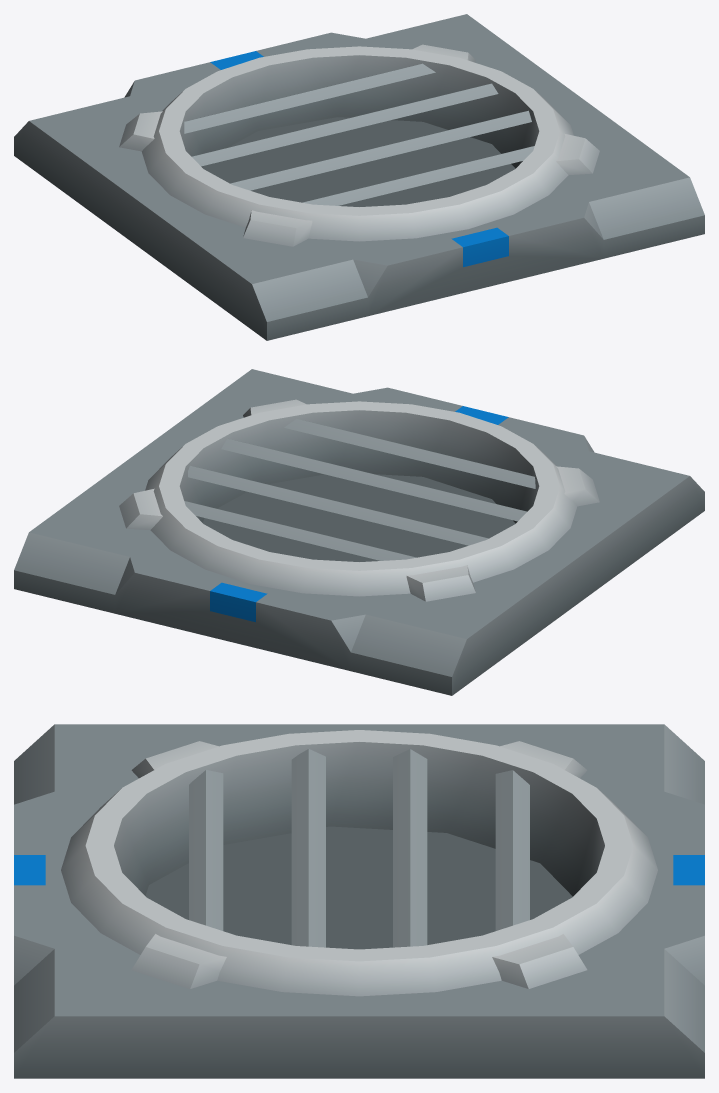
Rendered from Ventilation_002.fbx.
3 renders of one model, top to bottom at view 1: azimuth 30°, elevation 25°; view 2: azimuth 150°, elevation 25°; view 3: azimuth 270°, elevation 25°, orthographic. The views are drawn at different scales.
Parts seen in each view (by area): view 1: Ventilation_002; view 2: Ventilation_002; view 3: Ventilation_002.
Part boxes in pixels (left/top/right/bottom): Ventilation_002: left=14, top=14, right=704, bottom=340; Ventilation_002: left=14, top=369, right=704, bottom=695; Ventilation_002: left=14, top=724, right=704, bottom=1078.
Bounding box in the file's own units: 100 × 100 × 13.92.
